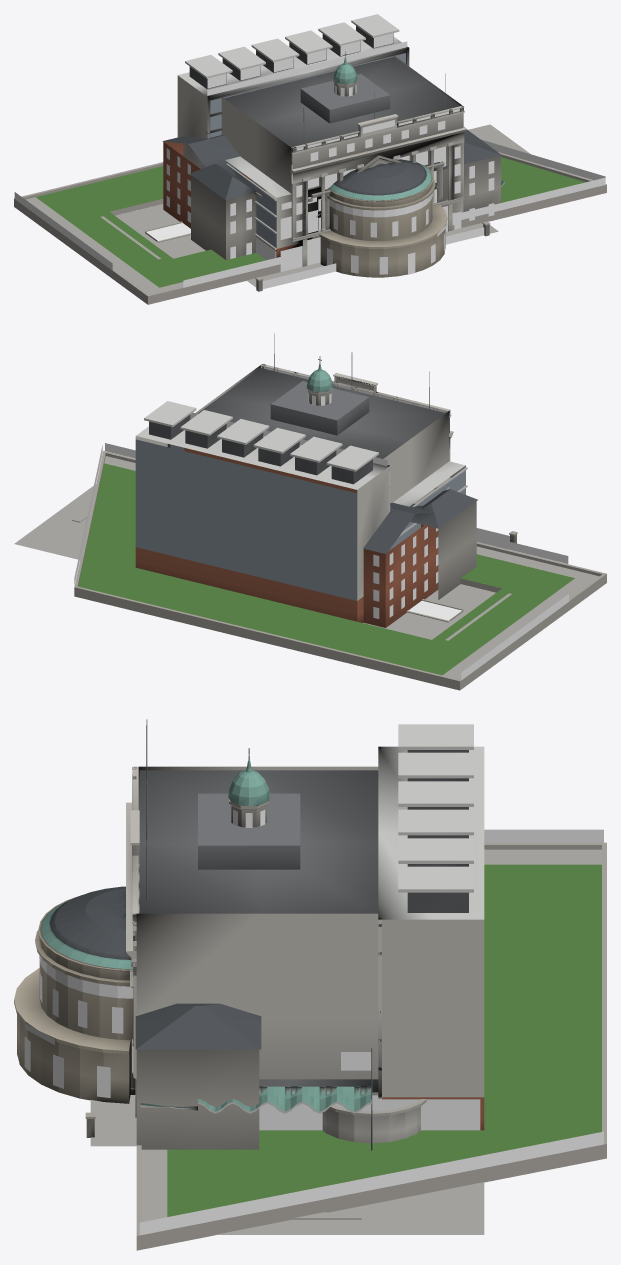
File: northcity.glb
3 renders of one model, top to bottom at view 1: azimuth 30°, elevation 25°; view 2: azimuth 150°, elevation 25°; view 3: azimuth 270°, elevation 25°, orthographic. The views are drawn at different scales.
Parts seen in each view (by area): view 1: clerys_stone, garden_lawn, clerys_metal, busaras_conc, ambassador_render, rotunda_granite, garden_granite, garden_atlas, busaras_atlas, garden_pave, rotunda_slate, clerys_atlas (+11 smaller); view 2: busaras_curtain, garden_lawn, clerys_metal, busaras_conc, garden_granite, garden_pave, busaras_brick, rotunda_brick, clerys_stone, rotunda_granite, busaras_metal, garden_atlas (+6 smaller); view 3: garden_lawn, clerys_stone, clerys_metal, busaras_conc, busaras_stone, rotunda_granite, ambassador_render, garden_granite, garden_atlas, busaras_pave, rotunda_slate, ambassador_slate (+9 smaller).
Part boxes in pixels (x1=…): clerys_stone: x1=221, y1=55, x2=467, y2=266; garden_lawn: x1=36, y1=157, x2=585, y2=287; clerys_metal: x1=224, y1=57, x2=459, y2=147; busaras_conc: x1=178, y1=14, x2=504, y2=249; ambassador_render: x1=319, y1=165, x2=447, y2=277; rotunda_granite: x1=191, y1=78, x2=500, y2=291; garden_granite: x1=14, y1=152, x2=606, y2=304; garden_atlas: x1=14, y1=139, x2=605, y2=287; busaras_atlas: x1=207, y1=33, x2=407, y2=271; garden_pave: x1=26, y1=197, x2=205, y2=294; rotunda_slate: x1=162, y1=130, x2=501, y2=199; clerys_atlas: x1=293, y1=109, x2=461, y2=268; busaras_curtain: x1=135, y1=439, x2=465, y2=600; garden_lawn: x1=78, y1=463, x2=574, y2=675; clerys_metal: x1=198, y1=333, x2=445, y2=458; busaras_conc: x1=136, y1=401, x2=467, y2=550; garden_granite: x1=74, y1=451, x2=606, y2=690; garden_pave: x1=104, y1=456, x2=599, y2=679; busaras_brick: x1=135, y1=547, x2=363, y2=622; rotunda_brick: x1=363, y1=523, x2=438, y2=627; clerys_stone: x1=195, y1=364, x2=453, y2=503; rotunda_granite: x1=306, y1=386, x2=517, y2=599; busaras_metal: x1=149, y1=415, x2=372, y2=484; garden_atlas: x1=74, y1=443, x2=568, y2=680; garden_lawn: x1=167, y1=864, x2=601, y2=1216; clerys_stone: x1=126, y1=766, x2=378, y2=1117; clerys_metal: x1=139, y1=719, x2=378, y2=913; busaras_conc: x1=140, y1=724, x2=484, y2=1113; busaras_stone: x1=382, y1=919, x2=484, y2=1097; rotunda_granite: x1=85, y1=799, x2=269, y2=1149; ambassador_render: x1=14, y1=895, x2=135, y2=1103; garden_granite: x1=136, y1=842, x2=606, y2=1250; garden_atlas: x1=139, y1=829, x2=603, y2=1235; busaras_pave: x1=215, y1=1182, x2=484, y2=1234; rotunda_slate: x1=135, y1=1003, x2=261, y2=1049; ambassador_slate: x1=50, y1=886, x2=133, y2=959.
Size of the model in its own units: 91.05 by 33 by 58.
